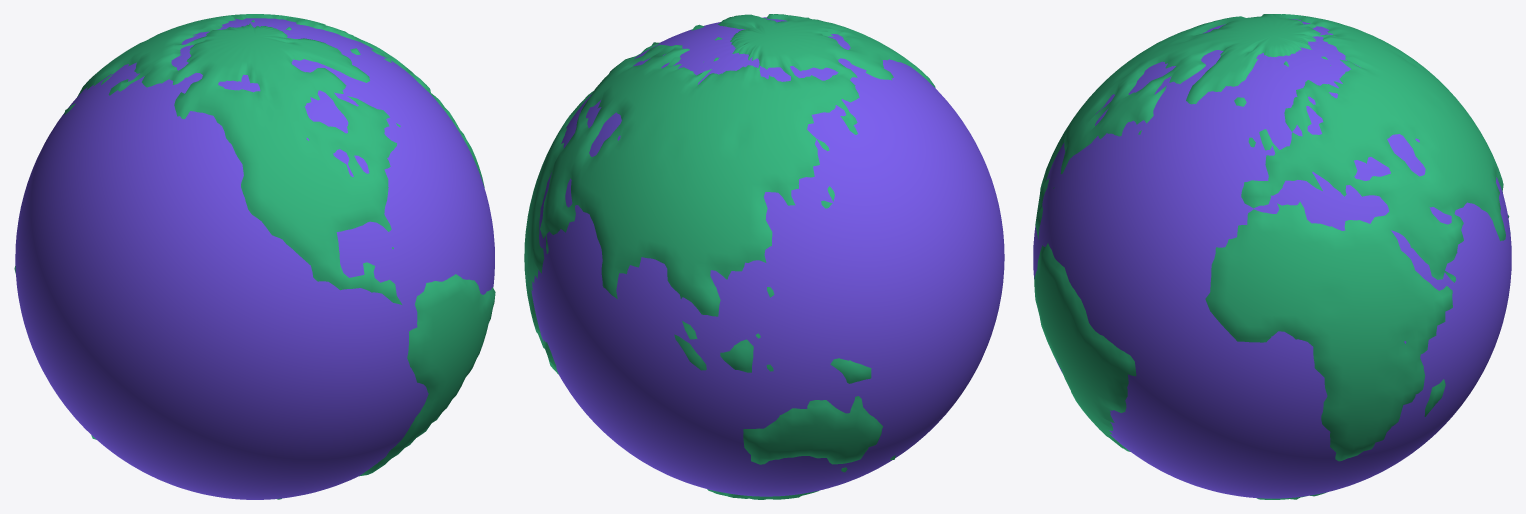
Rendered from earthbase.glb.
The picture shows the model from 3 angles, left to right: view 1: azimuth 30°, elevation 25°; view 2: azimuth 150°, elevation 25°; view 3: azimuth 270°, elevation 25°; orthographic projection.
Parts seen in each view (by area): view 1: Sphere002, Sphere003; view 2: Sphere002, Sphere003; view 3: Sphere002, Sphere003.
Part boxes in pixels (x1=…): Sphere002: x1=15, y1=18, x2=494, y2=499; Sphere003: x1=14, y1=14, x2=495, y2=499; Sphere002: x1=531, y1=17, x2=1004, y2=496; Sphere003: x1=524, y1=14, x2=935, y2=499; Sphere002: x1=1033, y1=18, x2=1511, y2=498; Sphere003: x1=1034, y1=14, x2=1510, y2=499.
Size of the model in its own units: 1.98 by 2.03 by 1.97.
